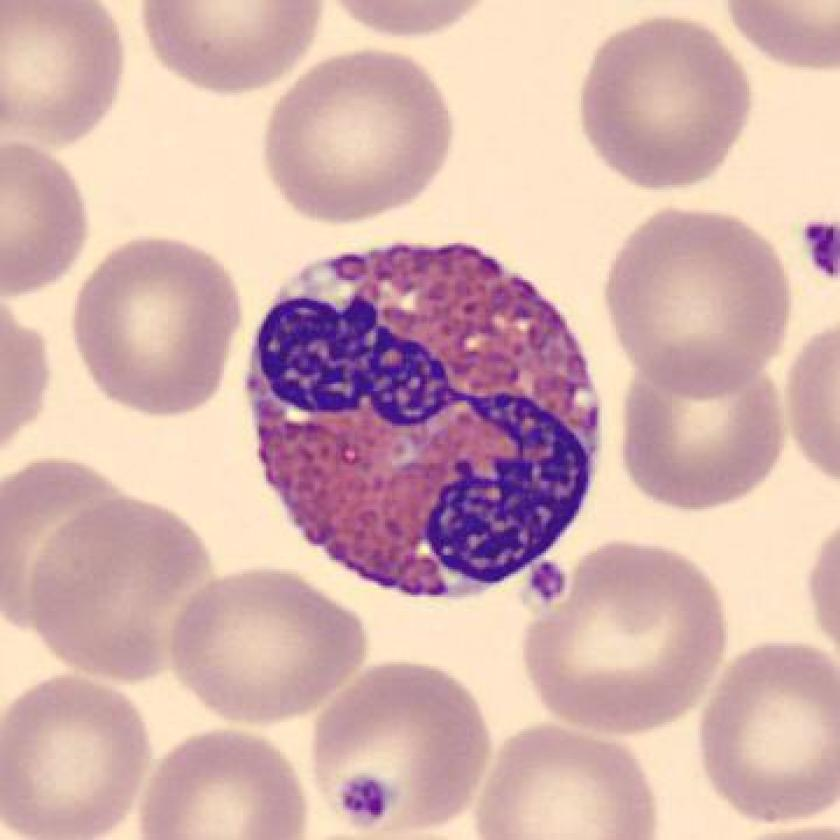eosinophil: (232, 230, 610, 607)
